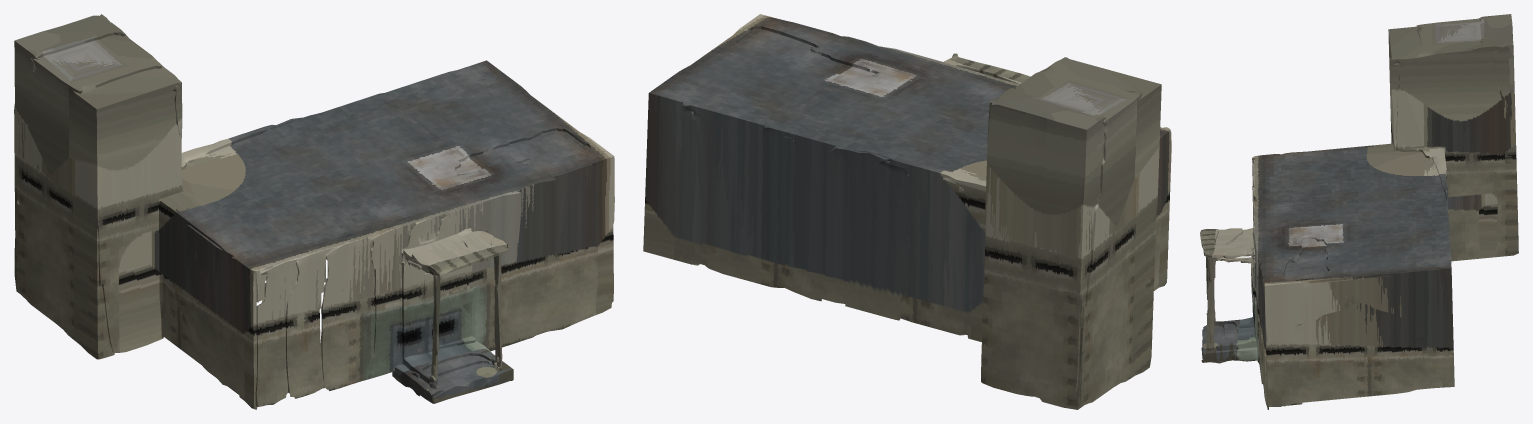
File: genericmilitary_hd.glb
The picture shows the model from 3 angles, left to right: view 1: azimuth 30°, elevation 25°; view 2: azimuth 150°, elevation 25°; view 3: azimuth 270°, elevation 25°; orthographic projection. The views are drawn at different scales.
Parts seen in each view (by area): view 1: hd_body; view 2: hd_body; view 3: hd_body.
Part boxes in pixels (left/top/right/bottom): hd_body: left=14, top=14, right=614, bottom=409; hd_body: left=643, top=14, right=1171, bottom=409; hd_body: left=1200, top=14, right=1518, bottom=409.
Bounding box in the file's own units: 22.37 × 13.61 × 16.83.
1 material, 1 textured.
